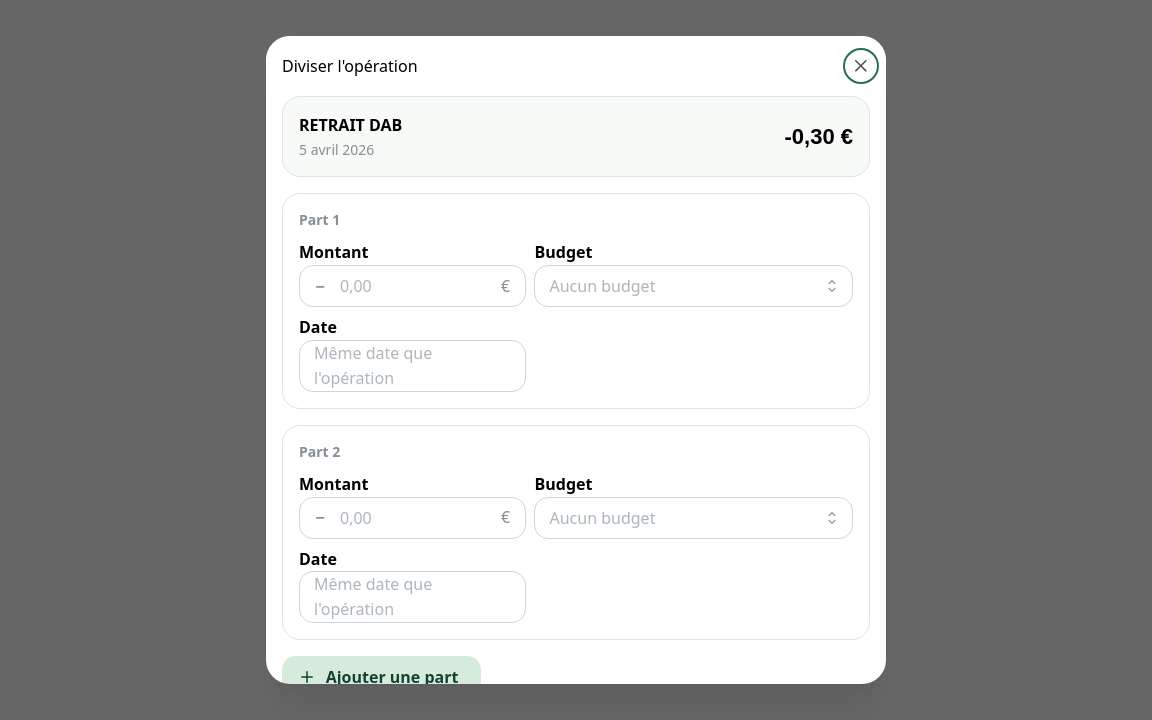
Scenario: SplitOperationModal › handles decimal amounts in cents without float errors
The width and height of the screenshot is (1152, 720).
Type "0,1" into the field named "Montant (Part 1)" at (413, 286), box [299,265,526,307]
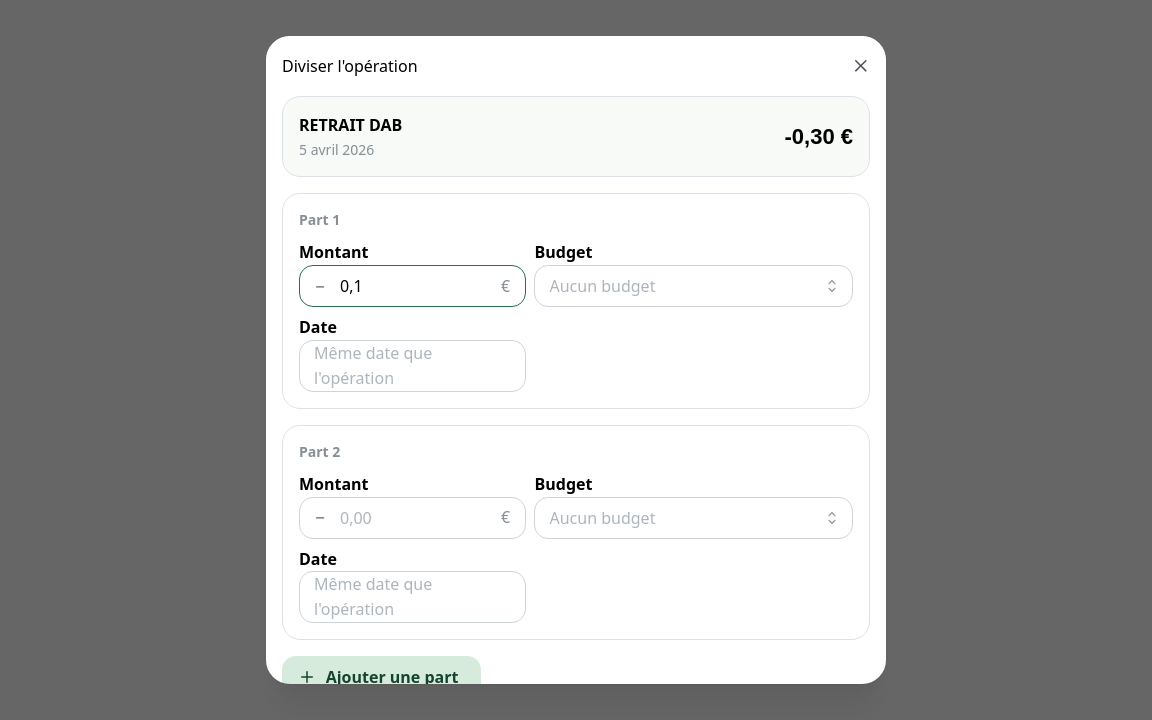
Type "0.2" into the field named "Montant (Part 2)" at (413, 518), box [299,497,526,539]
(page scrolled)
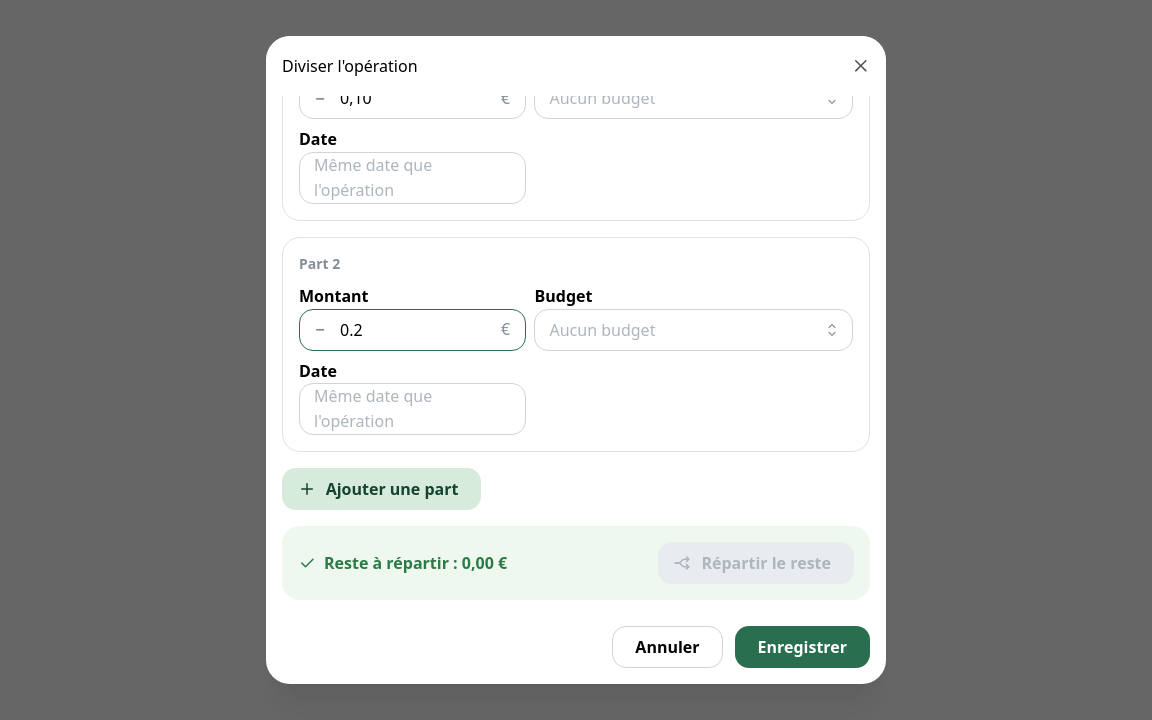
expect the message reads "Reste à répartir : 0,00 €": met, box [324,552,507,574]
expect the button "Enregistrer" is enabled: met, box [734,626,870,668]
